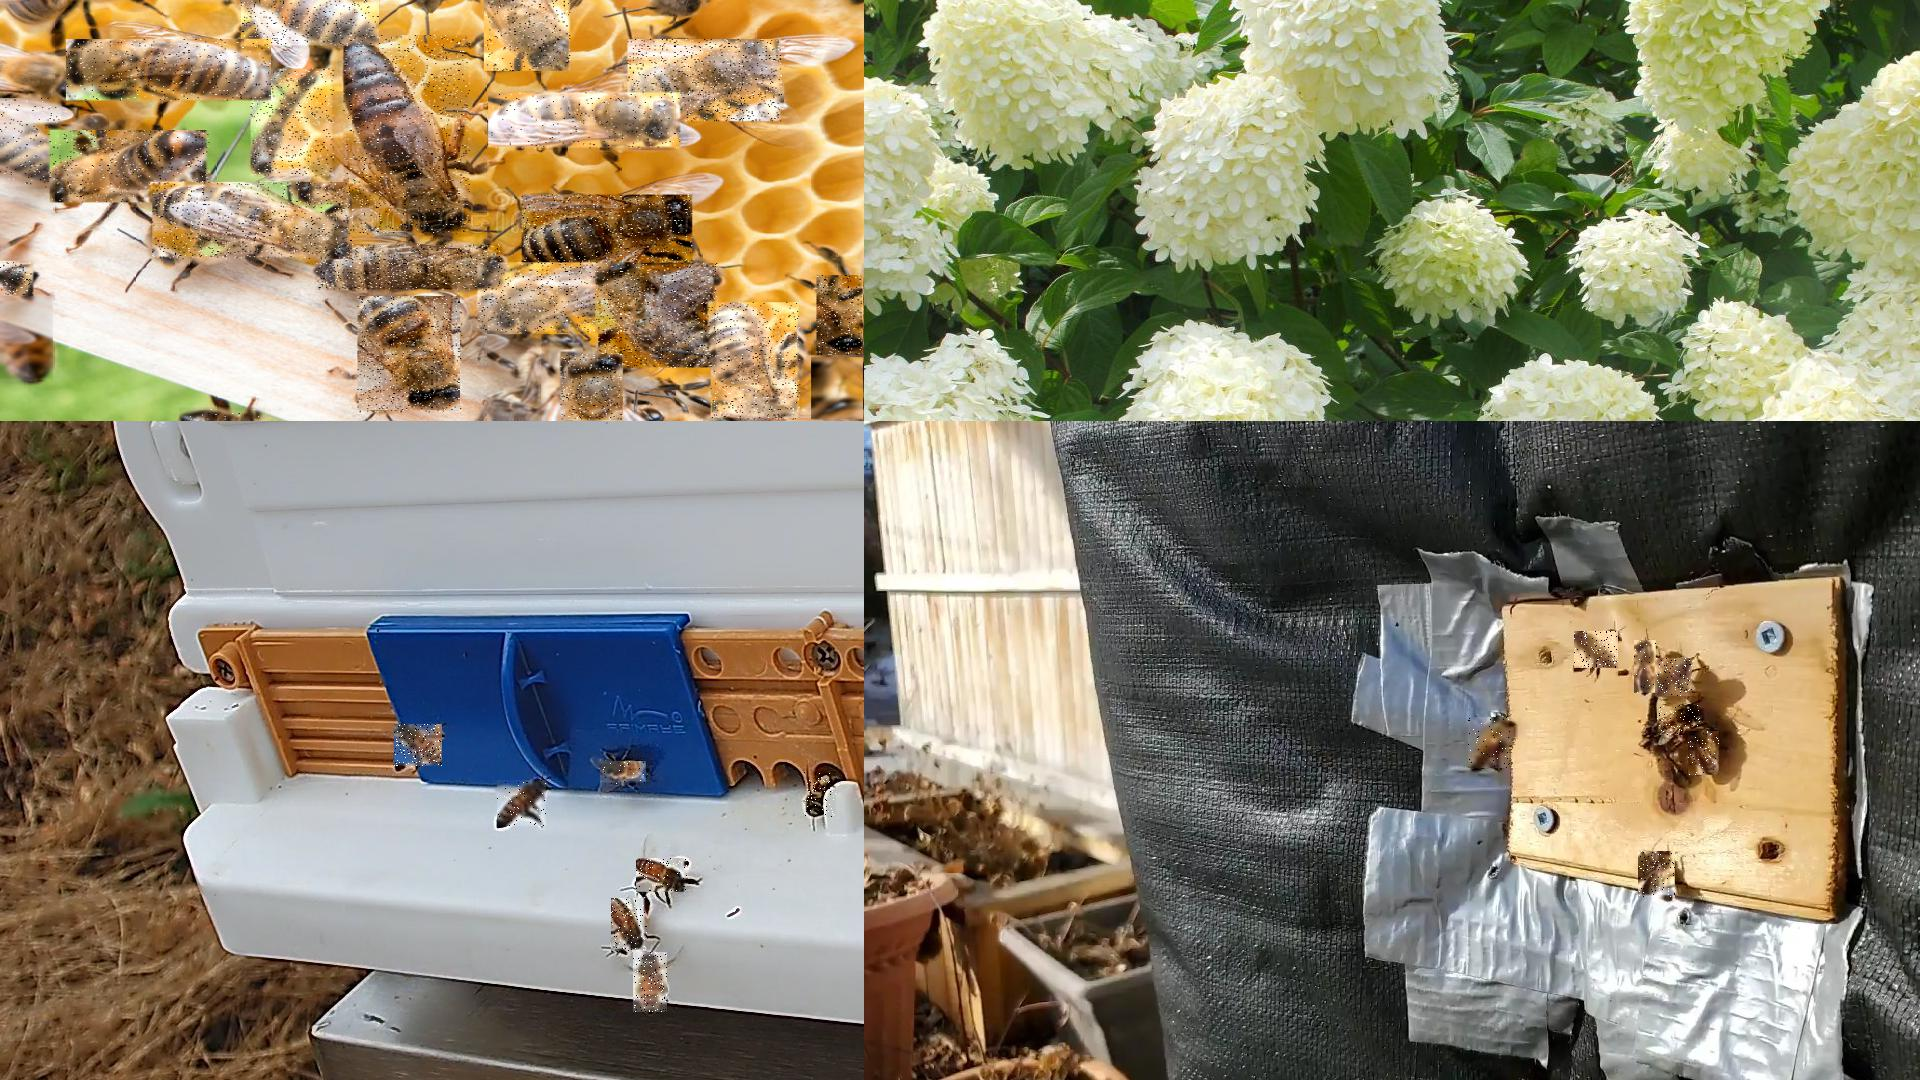bee: (153, 182, 353, 261), (628, 40, 783, 123), (66, 40, 272, 102), (599, 264, 719, 368), (359, 297, 464, 414), (50, 129, 211, 203), (479, 262, 645, 334), (522, 195, 694, 264), (488, 94, 682, 150), (711, 303, 803, 419), (252, 69, 335, 177), (315, 244, 504, 290), (487, 335, 585, 419), (241, 0, 378, 46), (484, 0, 571, 73), (0, 98, 63, 189), (0, 297, 54, 381), (560, 353, 624, 419), (816, 276, 862, 356), (811, 357, 862, 419), (497, 781, 547, 827), (1469, 717, 1513, 769), (394, 725, 443, 769), (612, 899, 649, 953), (1638, 852, 1676, 899), (637, 858, 688, 893), (1575, 632, 1619, 669), (1655, 658, 1693, 698), (0, 261, 34, 305), (1688, 732, 1720, 777), (1658, 704, 1701, 736), (1634, 641, 1658, 695), (179, 407, 266, 421), (600, 762, 647, 786)
pollenbee: (633, 952, 669, 1013), (803, 771, 837, 818)
queen: (344, 36, 472, 236)
